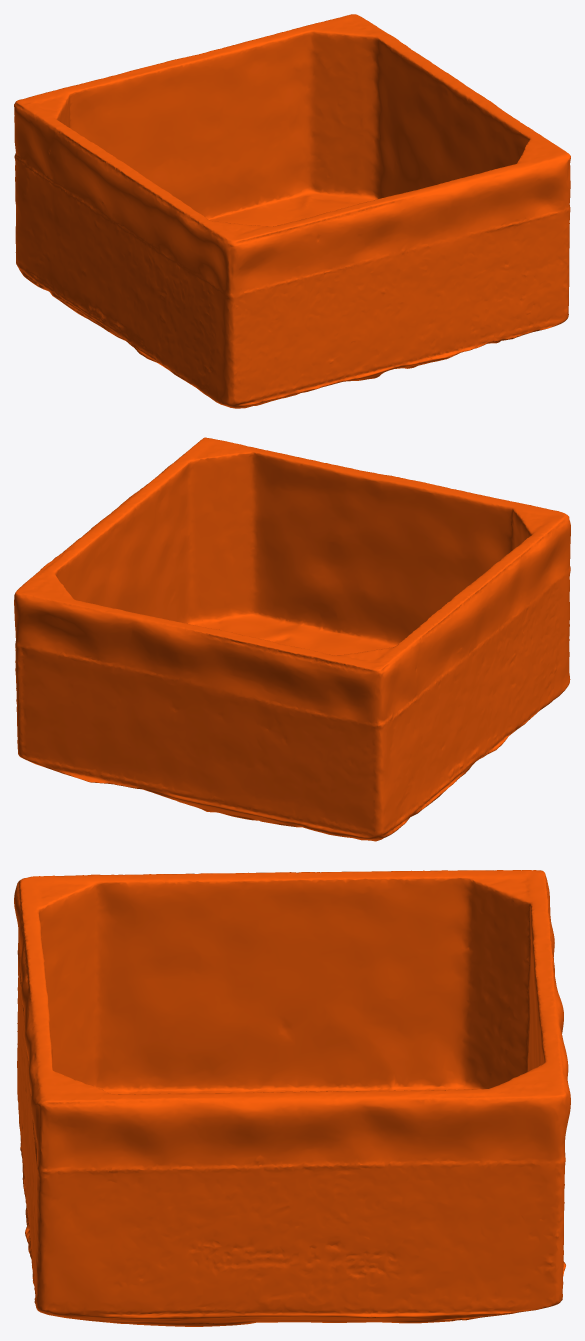
Rendered from red_toothpaste_basket.obj.
The picture shows the model from 3 angles, top to bottom: view 1: azimuth 30°, elevation 25°; view 2: azimuth 150°, elevation 25°; view 3: azimuth 270°, elevation 25°; orthographic projection. The views are drawn at different scales.
Size of the model in its own units: 0.1343 by 0.0645 by 0.1349.
